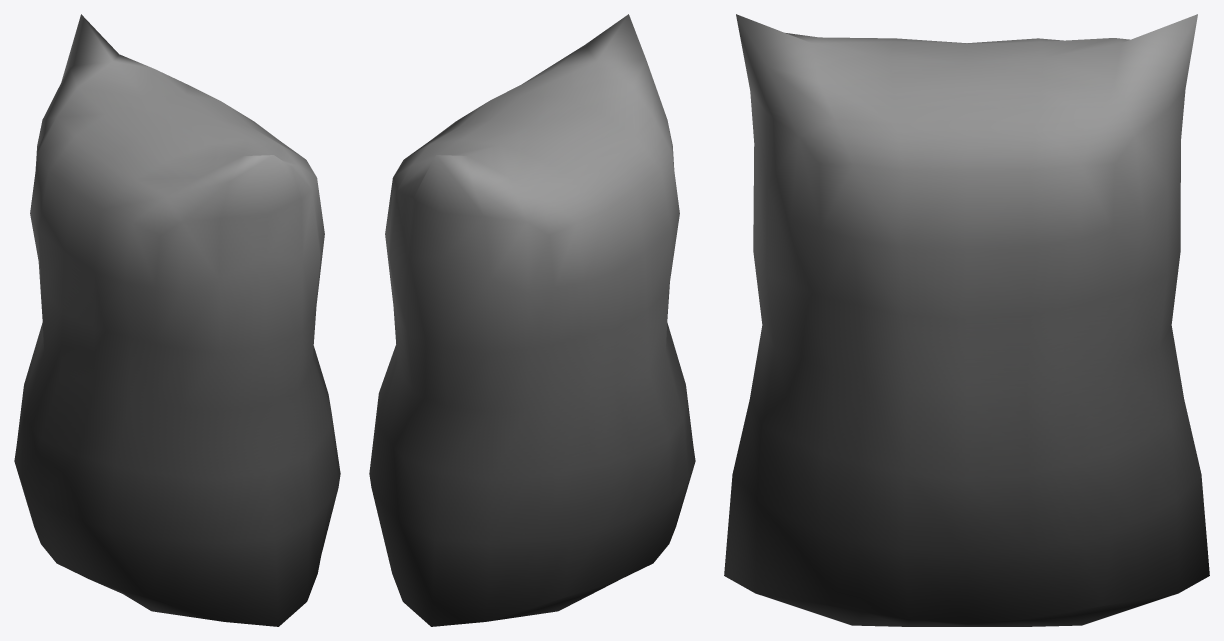
Rendered from Sack_MESH_02.fbx.
3 views of the same model, side by side, from view 1: azimuth 30°, elevation 25°; view 2: azimuth 150°, elevation 25°; view 3: azimuth 270°, elevation 25° (orthographic). The views are drawn at different scales.
Visible parts, largest first — view 1: Sack_MESH_02; view 2: Sack_MESH_02; view 3: Sack_MESH_02.
Part boxes in pixels (bbox=[...]): Sack_MESH_02: bbox=[14, 14, 340, 626]; Sack_MESH_02: bbox=[369, 14, 695, 626]; Sack_MESH_02: bbox=[724, 14, 1209, 626].
Bounding box in the file's own units: 59.64 × 101 × 75.94.
